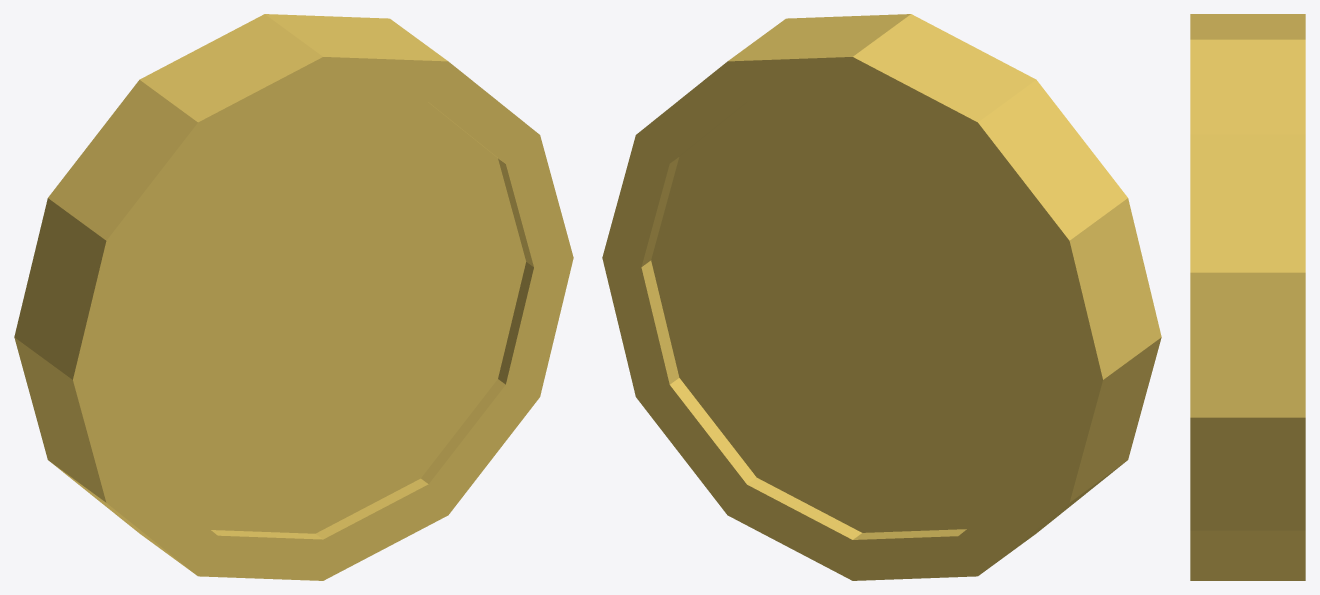
The model's file is coin.gltf.
3 renders of one model, left to right at view 1: azimuth 30°, elevation 25°; view 2: azimuth 150°, elevation 25°; view 3: azimuth 270°, elevation 25°, orthographic.
Visible parts, largest first — view 1: Cylinder; view 2: Cylinder; view 3: Cylinder.
Boxes of the visible parts, left/top/right/bottom form: Cylinder: left=14, top=14, right=573, bottom=580; Cylinder: left=602, top=14, right=1161, bottom=580; Cylinder: left=1190, top=14, right=1305, bottom=580.
Bounding box in the file's own units: 2 × 2 × 0.4051.
